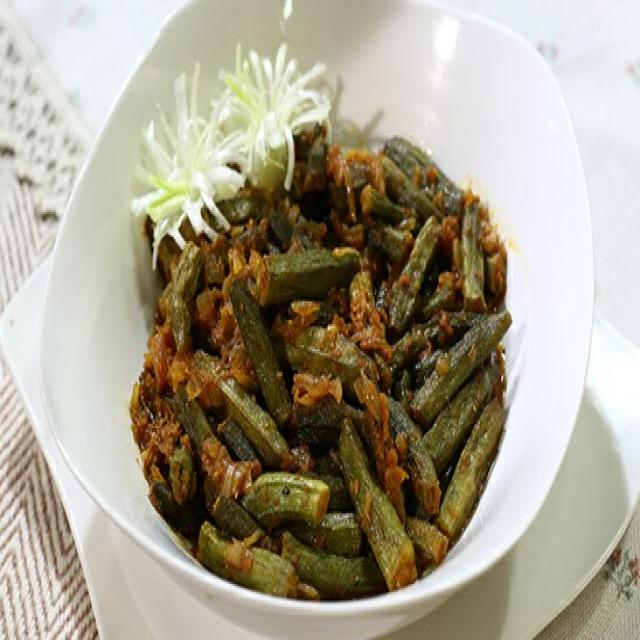BhindiMasala: (128, 121, 512, 603)
